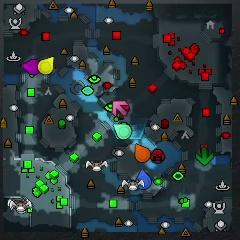p1: (135, 169, 152, 189)
p2: (114, 123, 132, 140)
p3: (22, 59, 41, 75)
p4: (37, 56, 54, 73)
p5: (135, 143, 150, 162)
x1: (113, 100, 127, 115)
x4: (196, 149, 213, 166)
